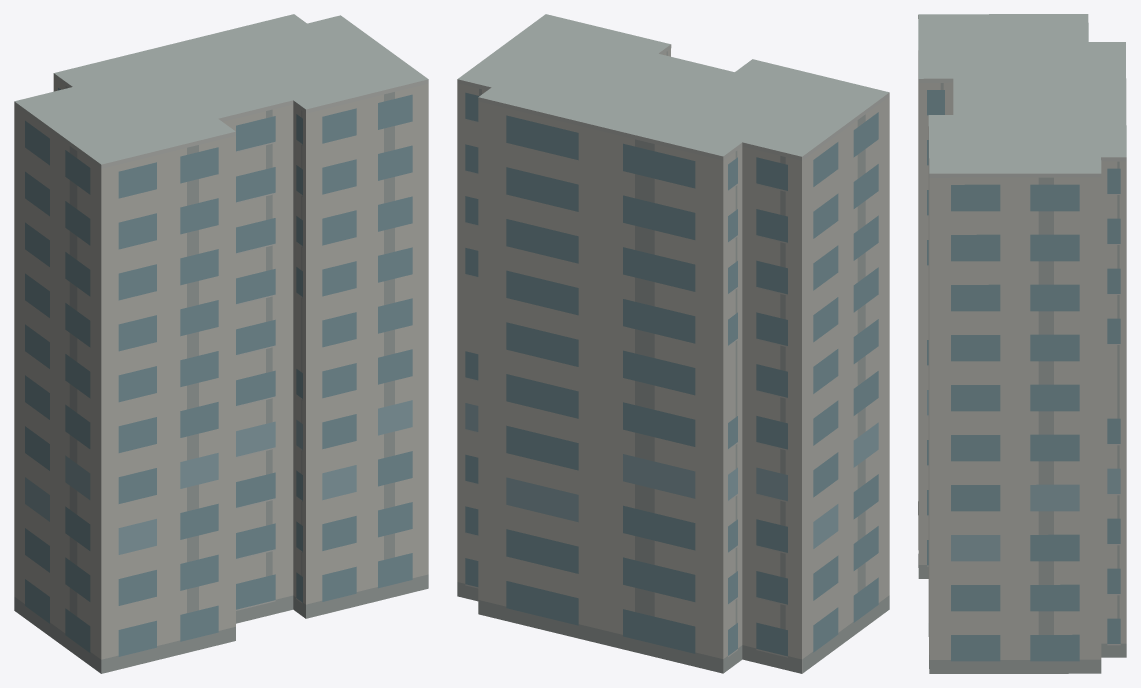
Rendered from residential-94f0d5dd-f524-452e-a3ab-098f96fbaca2.glb.
3 renders of one model, left to right at view 1: azimuth 30°, elevation 25°; view 2: azimuth 150°, elevation 25°; view 3: azimuth 270°, elevation 25°, orthographic. The views are drawn at different scales.
Visible parts, largest first — view 1: residential-94f0d5dd-f524-452e-a3ab-098f96fbaca2.tmp; view 2: residential-94f0d5dd-f524-452e-a3ab-098f96fbaca2.tmp; view 3: residential-94f0d5dd-f524-452e-a3ab-098f96fbaca2.tmp.
Part boxes in pixels (left/top/right/bottom): residential-94f0d5dd-f524-452e-a3ab-098f96fbaca2.tmp: left=14, top=14, right=428, bottom=673; residential-94f0d5dd-f524-452e-a3ab-098f96fbaca2.tmp: left=457, top=14, right=889, bottom=673; residential-94f0d5dd-f524-452e-a3ab-098f96fbaca2.tmp: left=918, top=14, right=1126, bottom=673.
Size of the model in its own units: 20.56 by 30 by 11.34.
